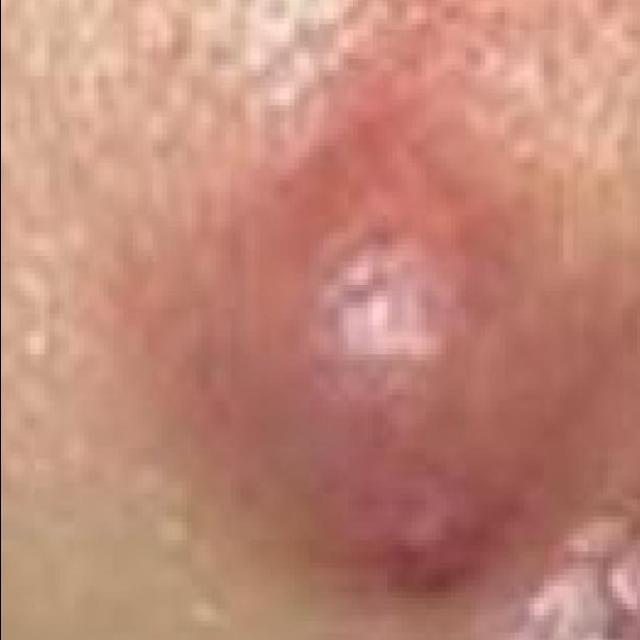nodule: (174, 78, 613, 581)
